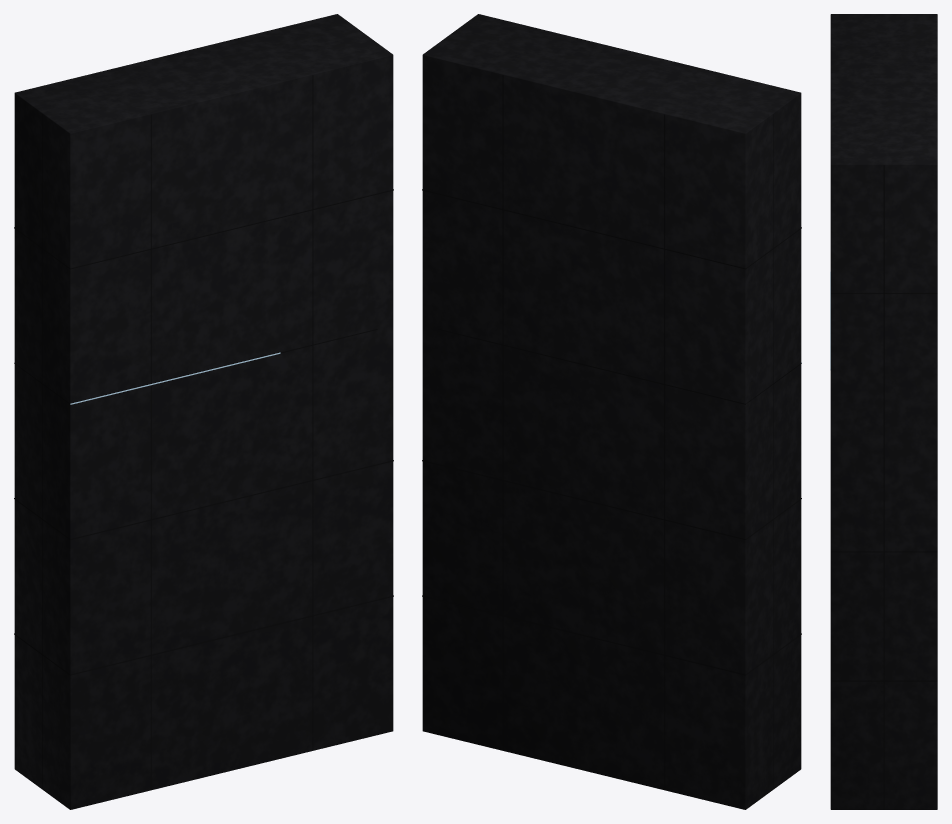
File: monolith.fbx
3 renders of one model, left to right at view 1: azimuth 30°, elevation 25°; view 2: azimuth 150°, elevation 25°; view 3: azimuth 270°, elevation 25°, orthographic. The views are drawn at different scales.
Visible parts, largest first — view 1: Body; view 2: Body; view 3: Body.
Part boxes in pixels (x1,y1,x2,y2): Body: (14, 14, 393, 809); Body: (422, 14, 801, 809); Body: (830, 14, 937, 809).
Size of the model in its own units: 20.02 by 40 by 6.04.
Materials: 1 (1 with a texture image).
